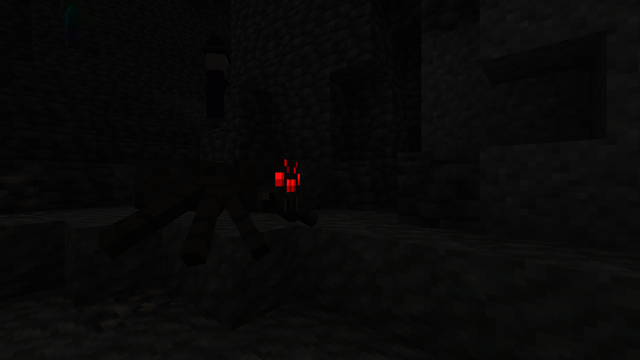araignees: (133, 139, 322, 269)
sorcieres: (201, 47, 233, 129)
zombies: (59, 0, 81, 50)
